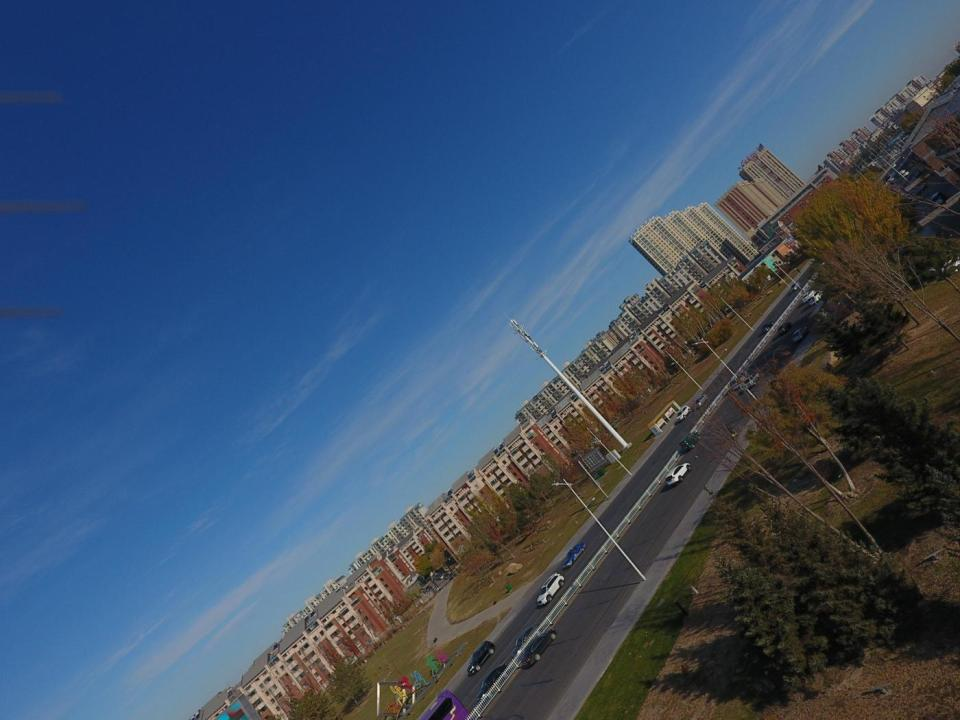car: (520, 629, 557, 666), (477, 664, 508, 702), (512, 623, 542, 658), (466, 641, 496, 675), (538, 572, 565, 607), (664, 462, 690, 486), (563, 542, 586, 568), (904, 184, 926, 200), (792, 326, 809, 342), (744, 373, 760, 390), (677, 406, 692, 420), (810, 290, 823, 305), (778, 322, 793, 334), (802, 289, 816, 301), (762, 319, 774, 332), (696, 394, 706, 409), (914, 168, 922, 178), (792, 281, 800, 291), (443, 573, 450, 580), (448, 574, 456, 580), (902, 170, 909, 176), (426, 586, 432, 592), (899, 169, 904, 176), (440, 574, 445, 581), (886, 173, 891, 179), (436, 574, 442, 578), (432, 588, 438, 591), (892, 164, 896, 168), (436, 588, 440, 592)
van: (679, 432, 701, 452), (730, 372, 747, 390), (931, 191, 946, 208)
